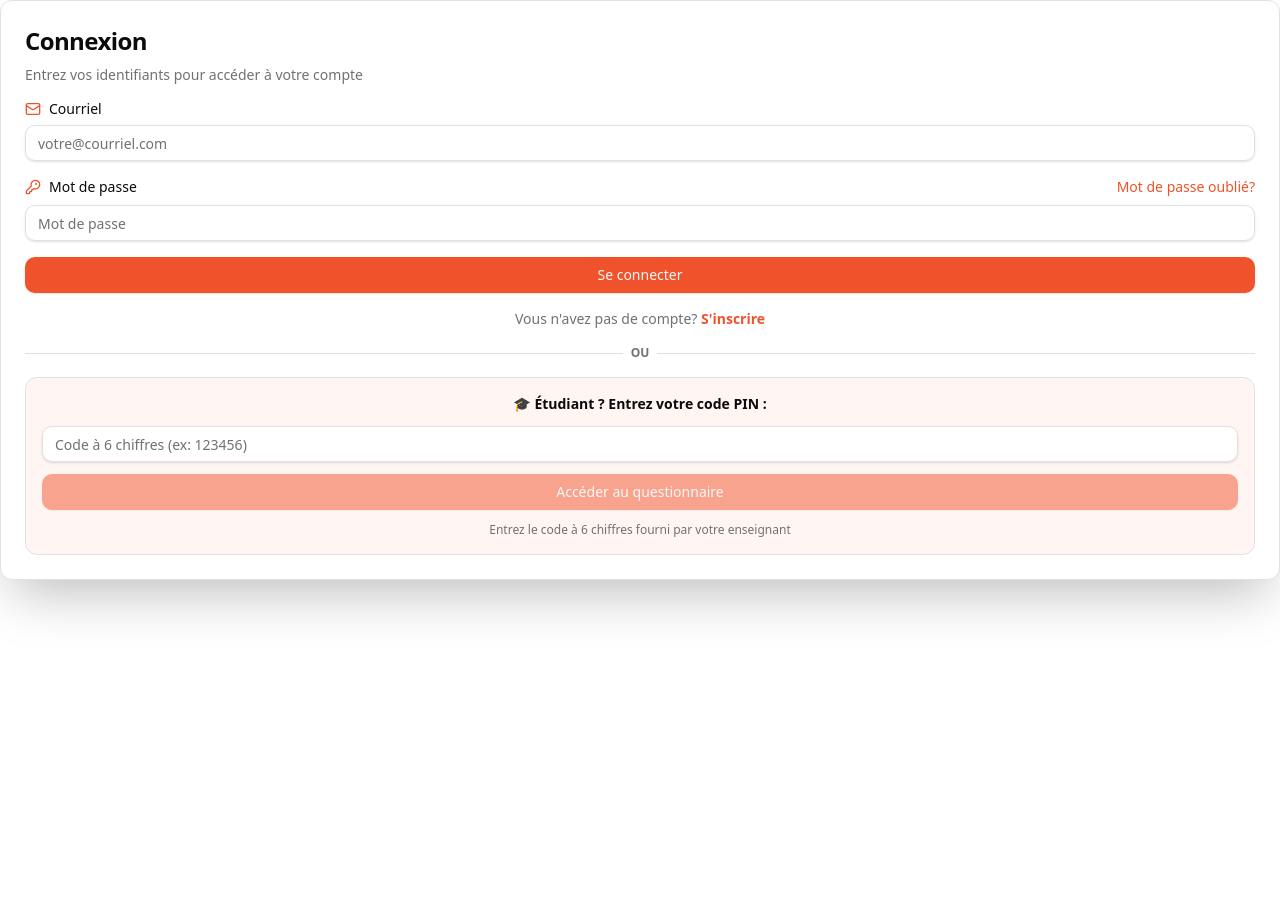
Test case: SignInCard › validates password length
Type "test@test.com" into the field labelled "Courriel" at (640, 143), box [25,125,1255,161]
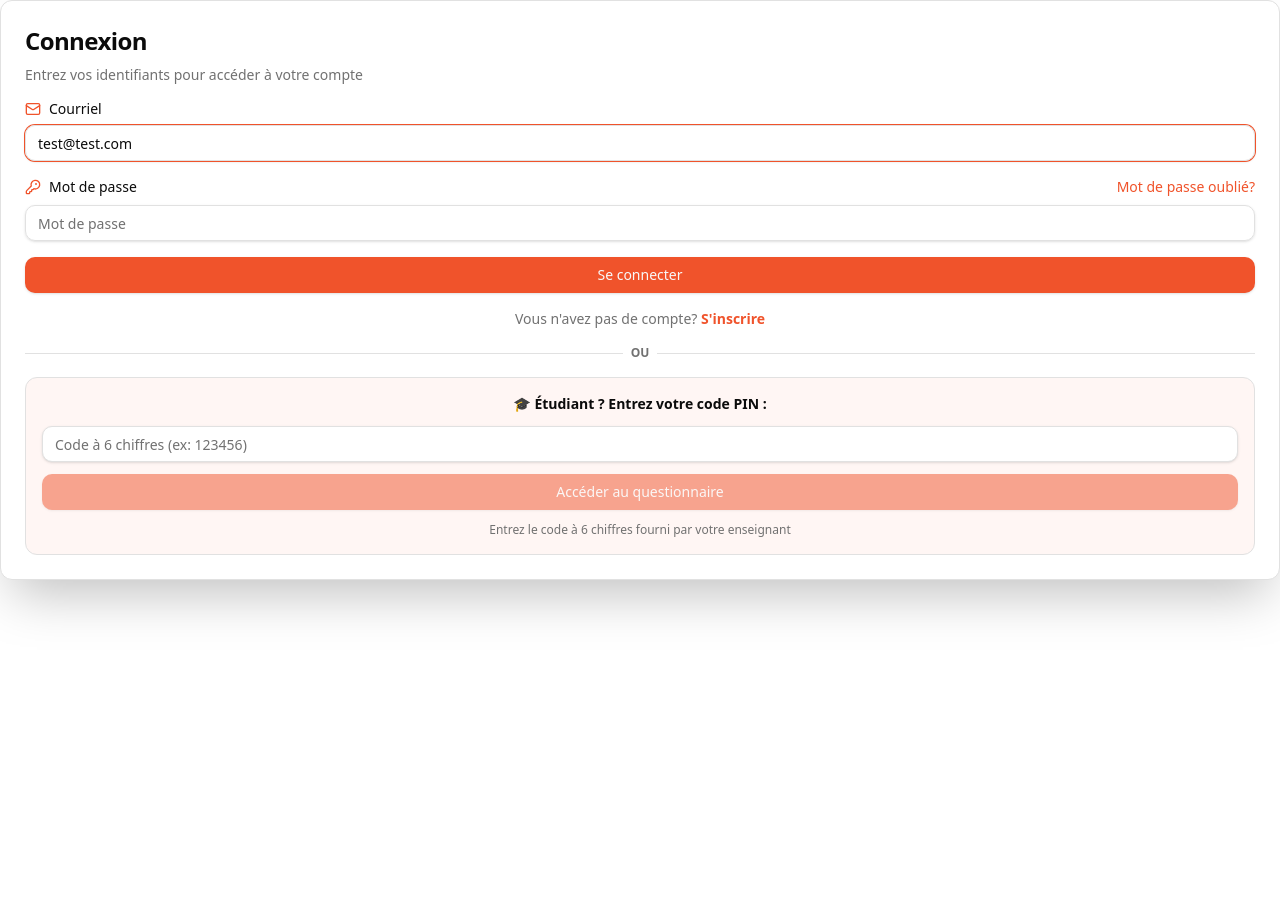
Type "123" into the password field labelled "Mot de passe" at (640, 223), box [25,205,1255,241]
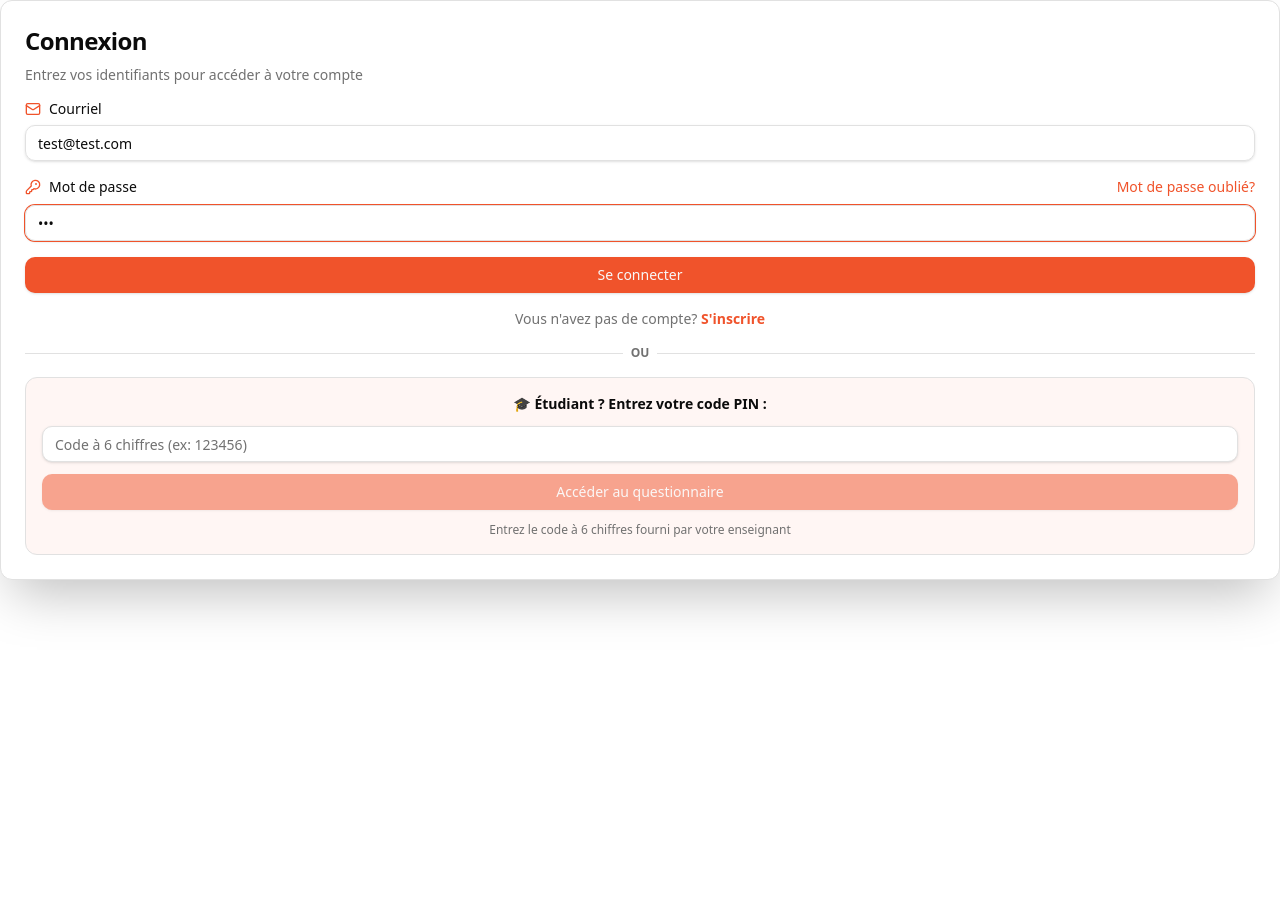
Click the button "Se connecter" at (640, 275), box [25,257,1255,293]
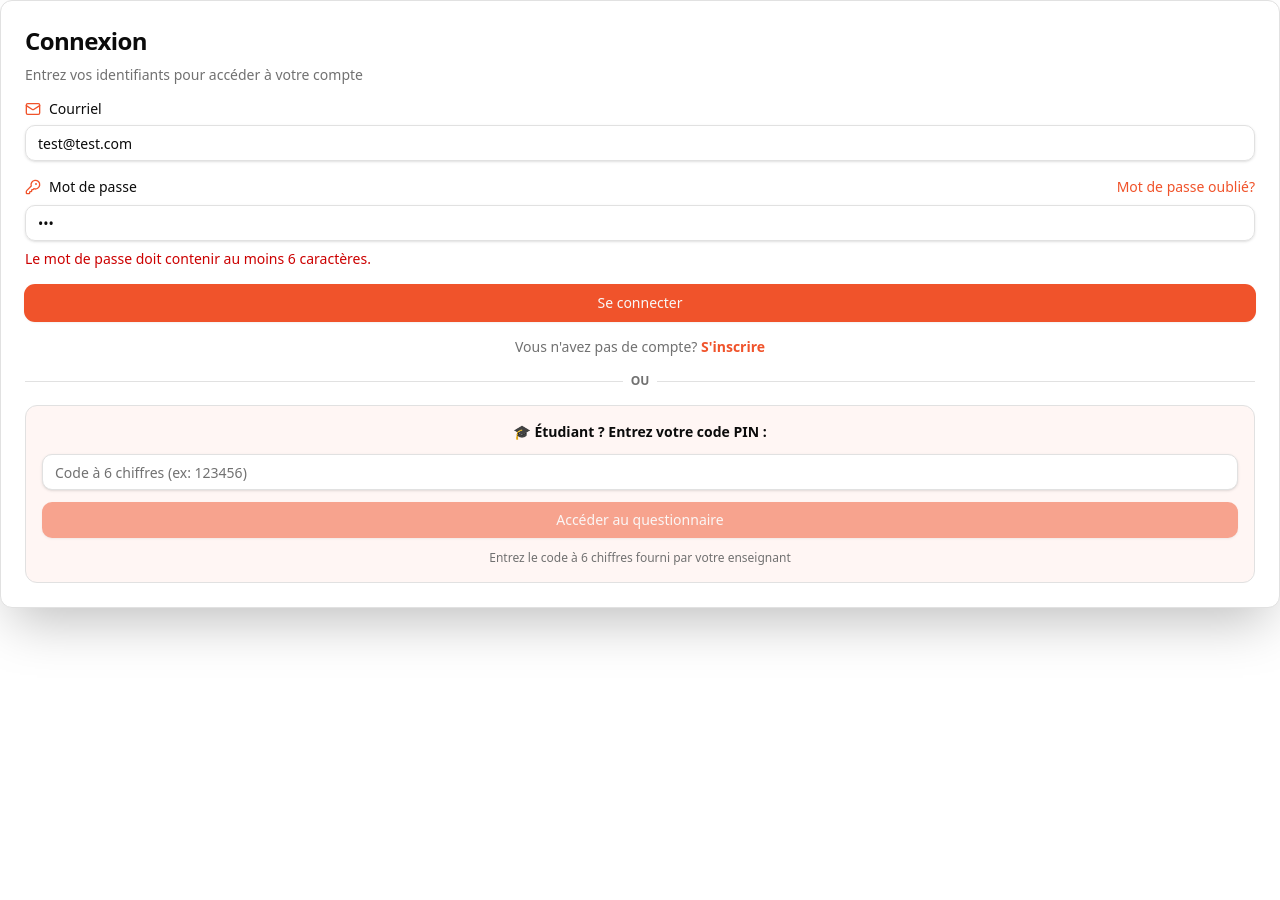
Check: the text "Le mot de passe doit contenir au moins 6 caractères." is shown, box [25,249,371,268]
